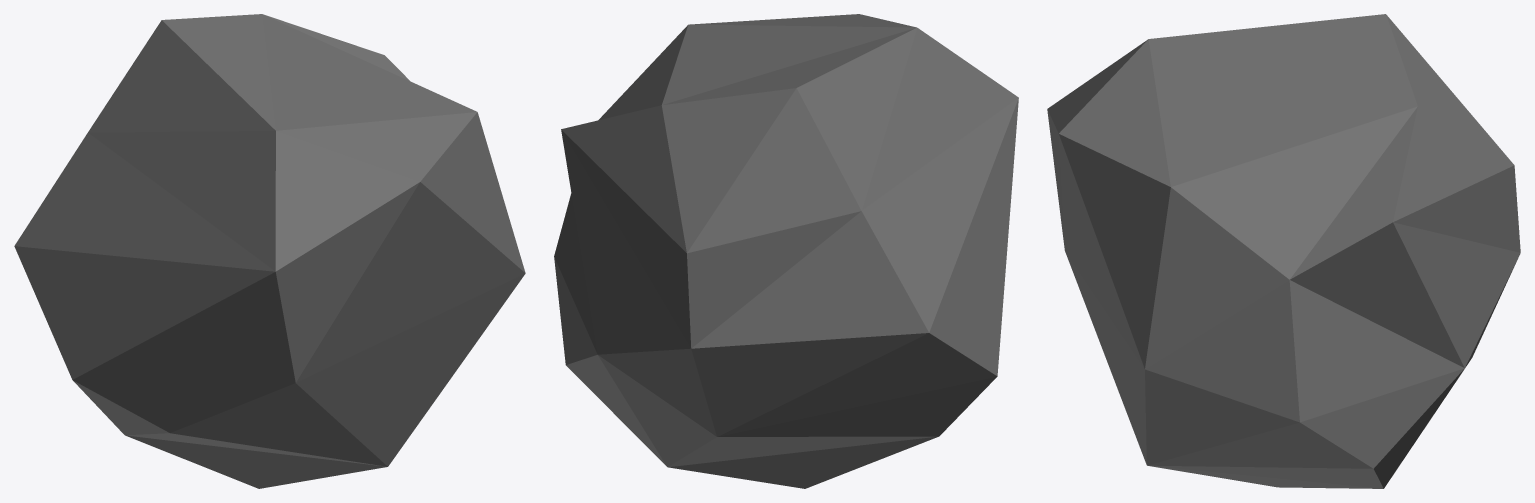
File: CATAPULT_STONE.fbx
The picture shows the model from 3 angles, left to right: view 1: azimuth 30°, elevation 25°; view 2: azimuth 150°, elevation 25°; view 3: azimuth 270°, elevation 25°; orthographic projection. The views are drawn at different scales.
Parts seen in each view (by area): view 1: CATAPULT_STONE; view 2: CATAPULT_STONE; view 3: CATAPULT_STONE.
Part boxes in pixels (left/top/right/bottom): CATAPULT_STONE: left=14, top=14, right=525, bottom=488; CATAPULT_STONE: left=554, top=14, right=1018, bottom=488; CATAPULT_STONE: left=1047, top=14, right=1520, bottom=488.
Size of the model in its own units: 74.07 by 74.04 by 70.41.
